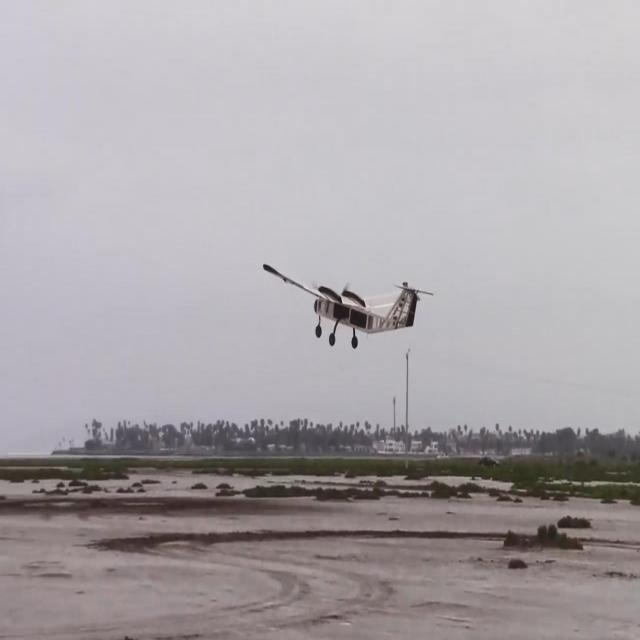iha: (256, 244, 489, 392)
